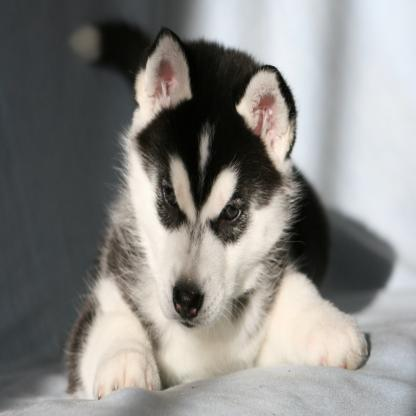dog: (60, 15, 369, 399)
